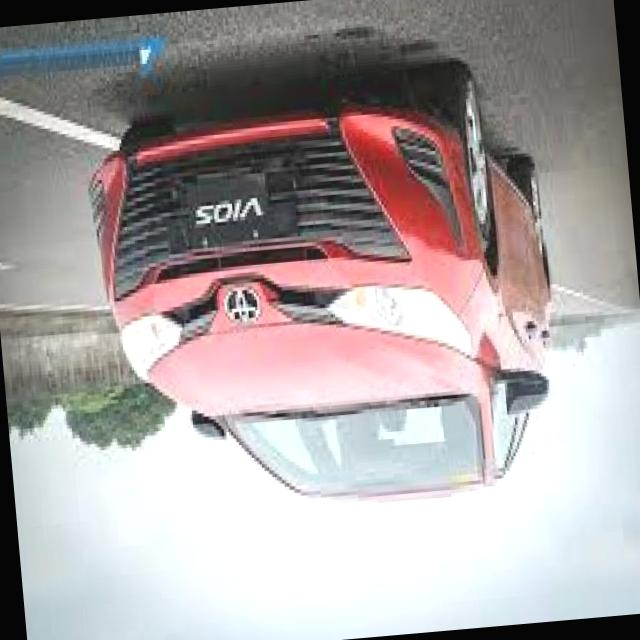ToyotaVios: (79, 55, 570, 528)
